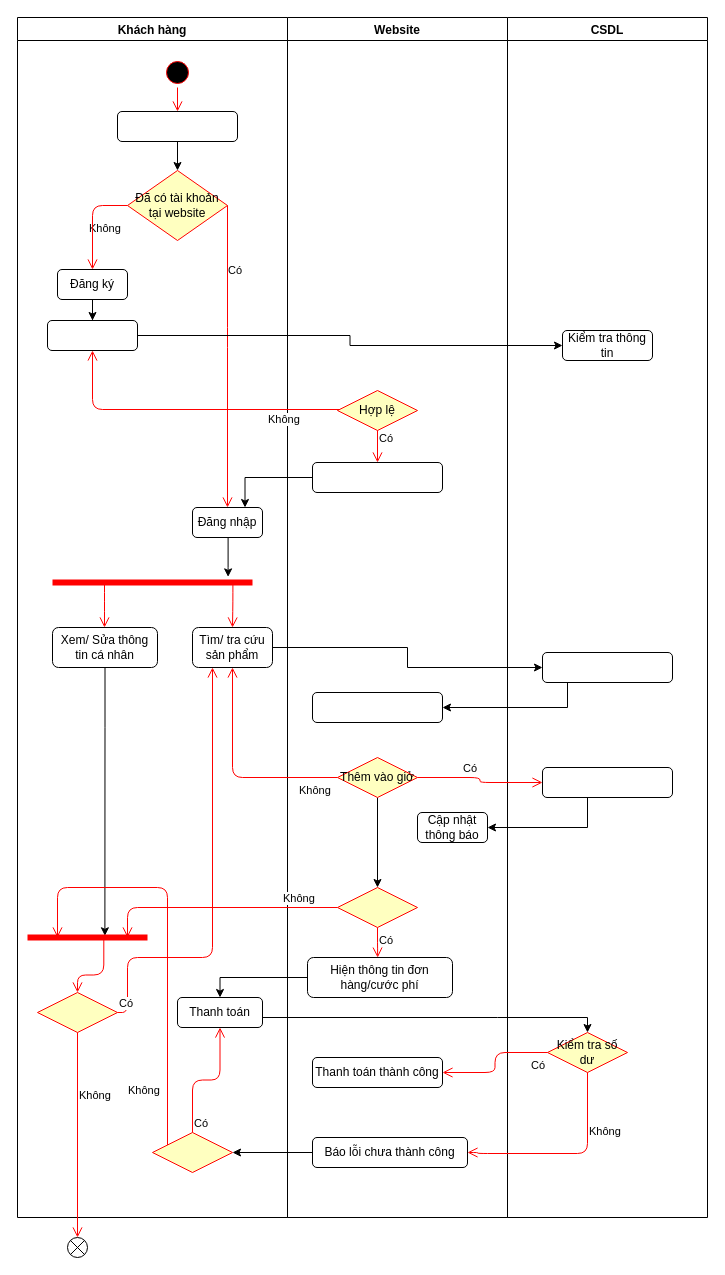
This 725x1275 diagram has some shape labels left out. The centre of each missing label's shape, as x and y in pixels:
Cập nhật giỏ hàng: (x=607, y=782)
Hiển thị sản phâm: (x=377, y=707)
Hiện thông tin đăng ký thành công: (x=377, y=477)
Nhập thông tin: (x=92, y=335)
Thanh toán ?: (x=377, y=907)
Thanh toán lại: (x=192, y=1152)
Tiếp tục mua sắm: (x=77, y=1012)
Truy cập vào website: (x=177, y=126)
Xử lí yêu cầu: (x=607, y=667)
